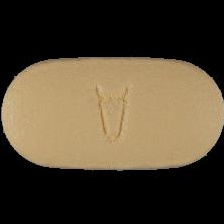68084-119: (0, 0, 224, 224)
